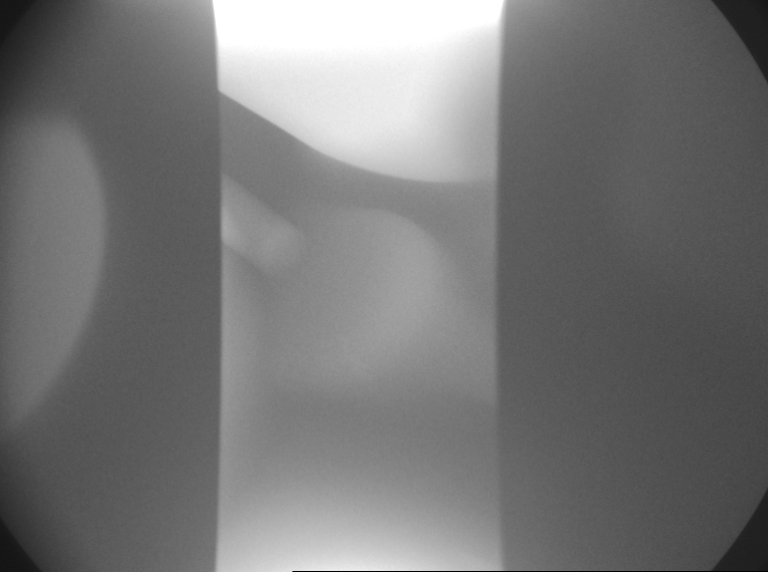defect: (336, 342, 375, 383)
